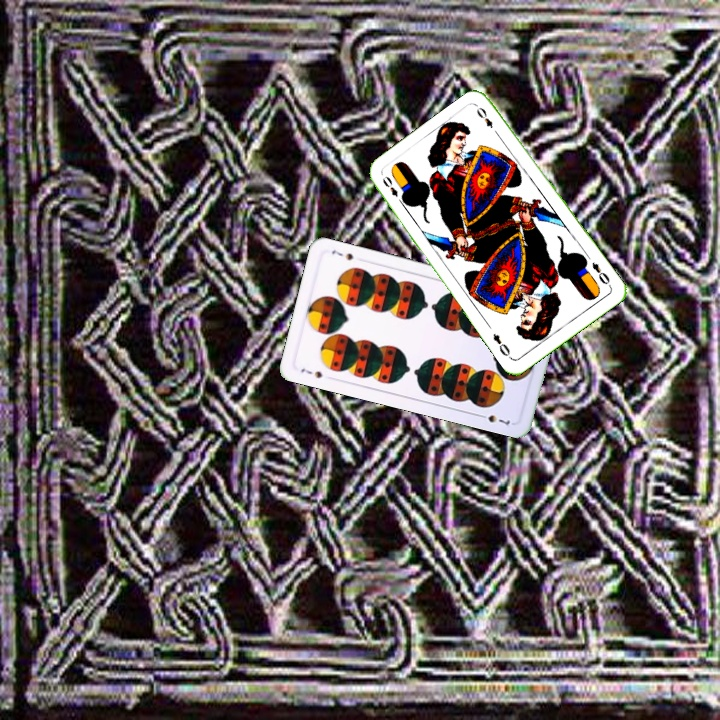EO: (378, 172, 407, 207), (588, 258, 614, 290)
S7: (297, 364, 325, 381)
